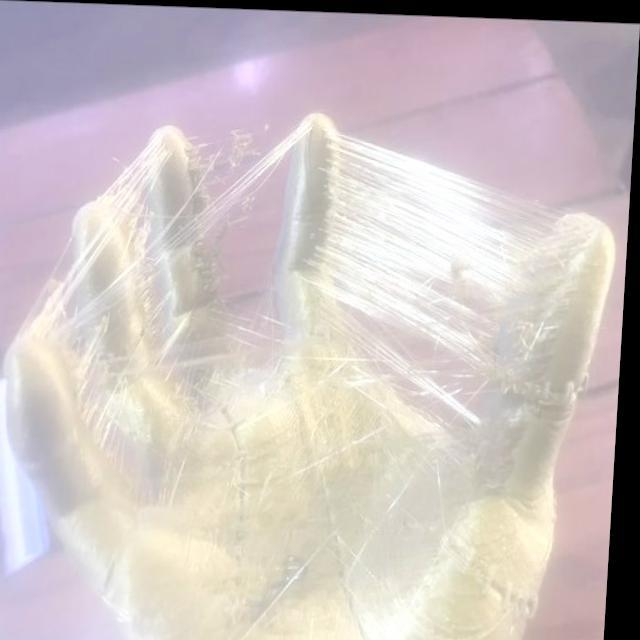stringing: (309, 129, 576, 442)
